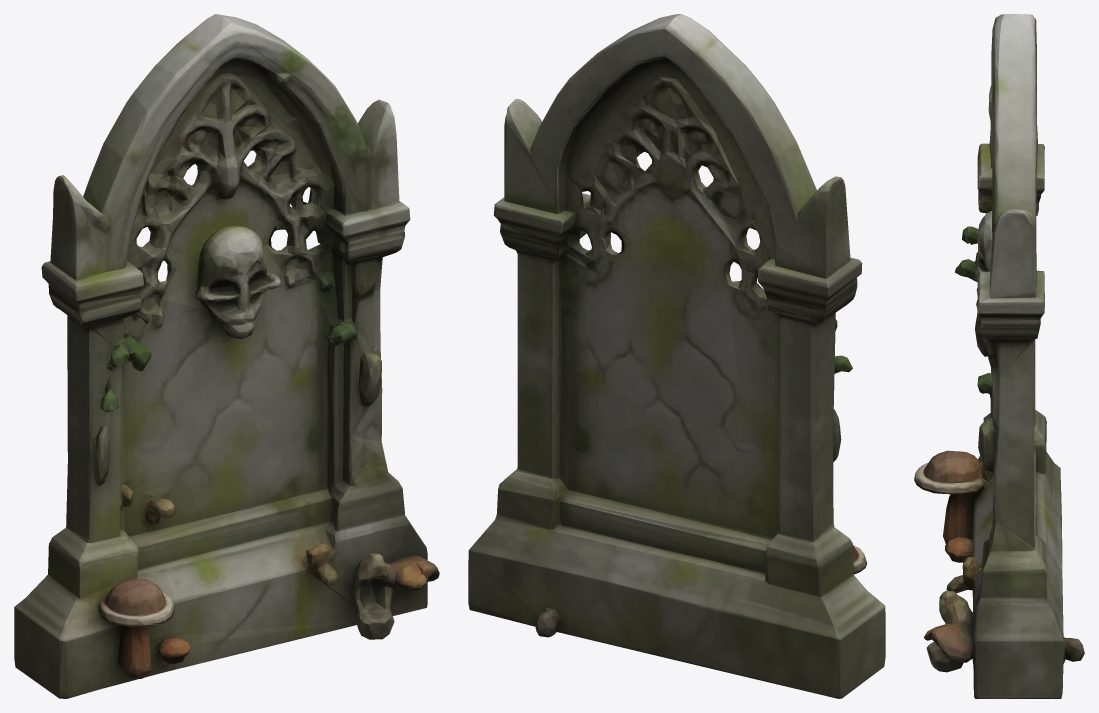
The model's file is tombstone_skull_mushrooms.glb.
3 renders of one model, left to right at view 1: azimuth 30°, elevation 25°; view 2: azimuth 150°, elevation 25°; view 3: azimuth 270°, elevation 25°, orthographic. The views are drawn at different scales.
Visible parts, largest first — view 1: geometry_0; view 2: geometry_0; view 3: geometry_0.
Boxes of the visible parts, x1=… form: geometry_0: x1=14, y1=14, x2=439, y2=698; geometry_0: x1=468, y1=14, x2=885, y2=698; geometry_0: x1=914, y1=14, x2=1084, y2=698.
Size of the model in its own units: 0.6262 by 0.9991 by 0.258.
1 material, 1 textured.
